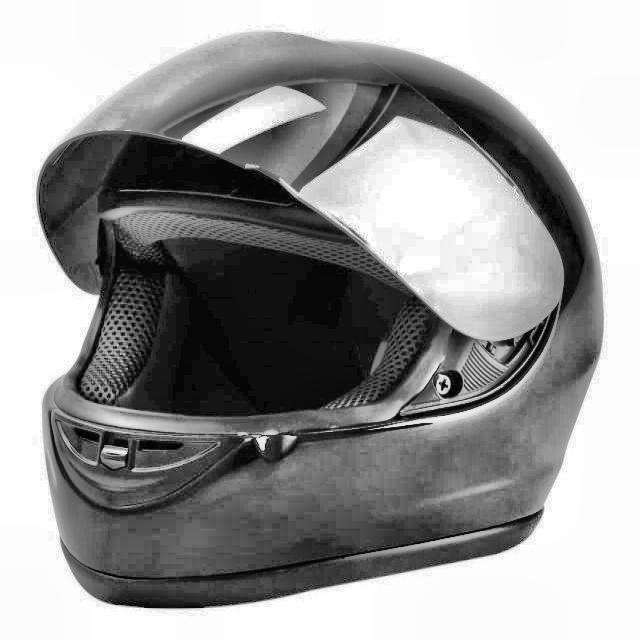Helmet: (36, 21, 609, 610)
